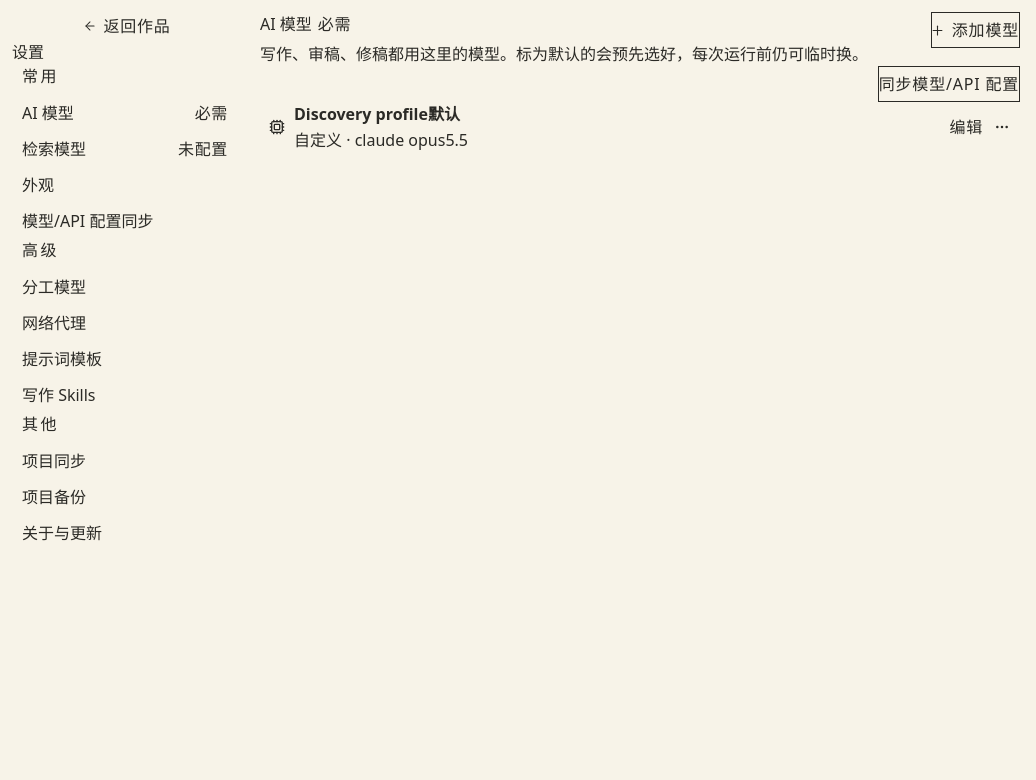
Test: model discovery settings flow › keeps a relay alias undeclared and preserves its explicitly entered context limit
Later steps or results of the test are not shown.
Click the button with aria-label "编辑「".
click(966, 127)  # box [948,113,984,141]
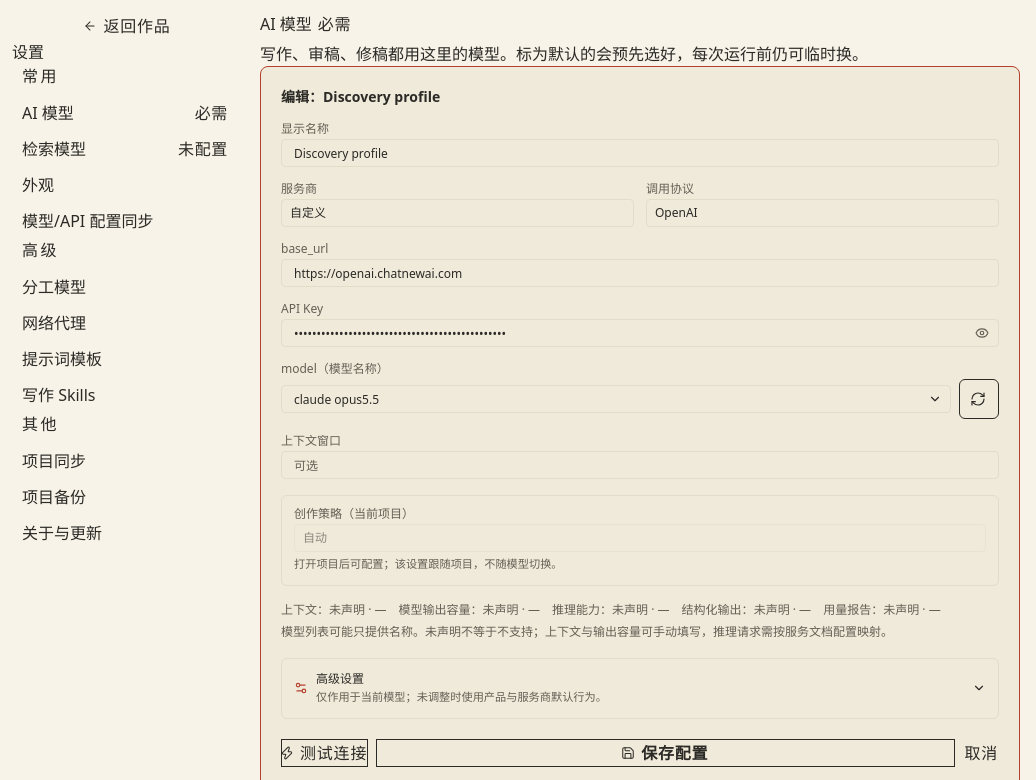
Click the button named "获取模型列表".
click(979, 399)  # box [959,379,999,419]
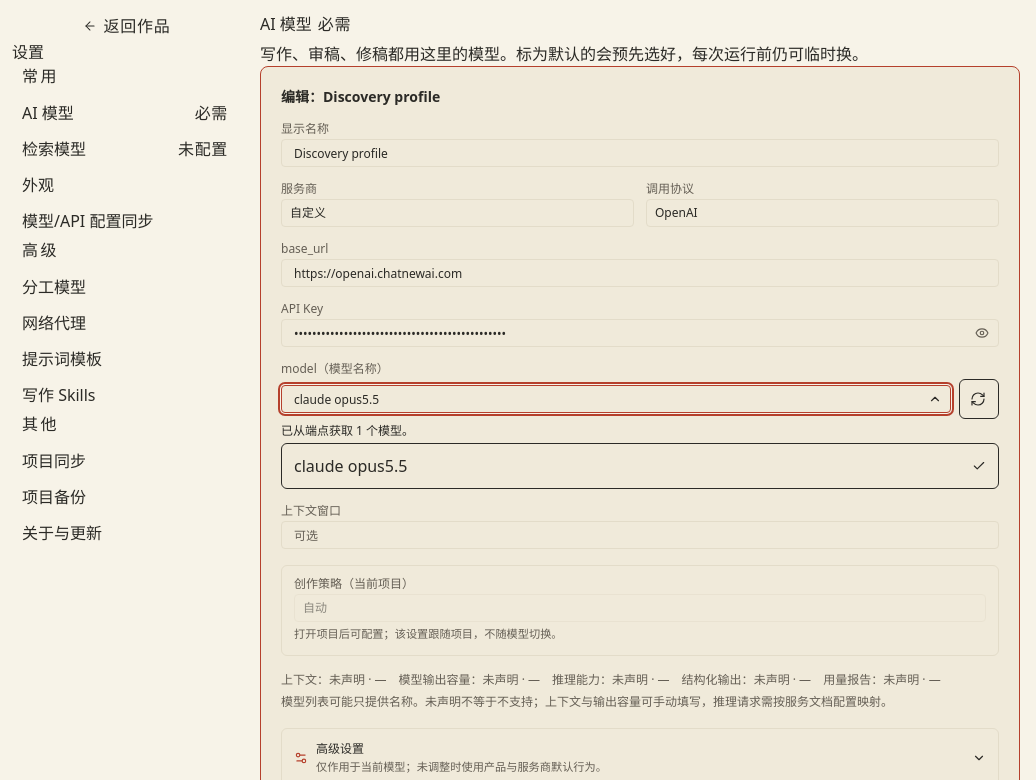
Click the option "claude opus5.5".
click(351, 466)  # box [286,448,994,484]
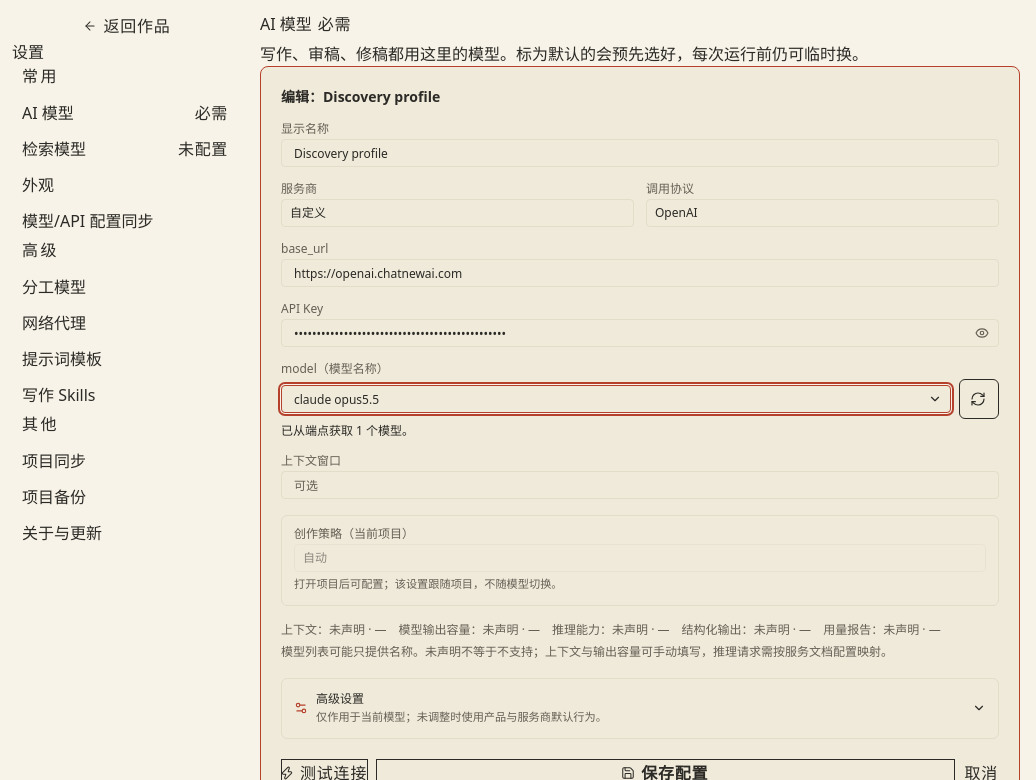
Now the text "未声明不等于不支持" is shown, box [281,643,893,660]
